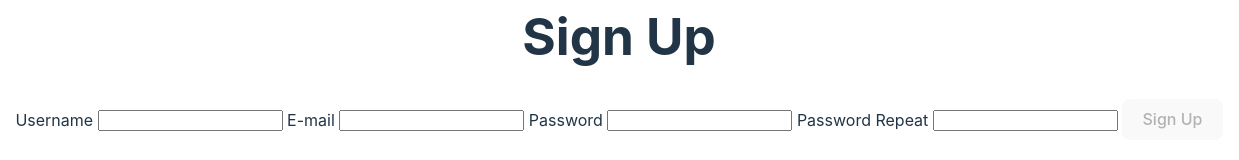
Scenario: Sign Up Page › Interactions › Enables the button when the password and password repeat have the same value
Type "P4ssword" into the password field labelled "Password". click: (700, 121)
box: [607, 110, 792, 132]
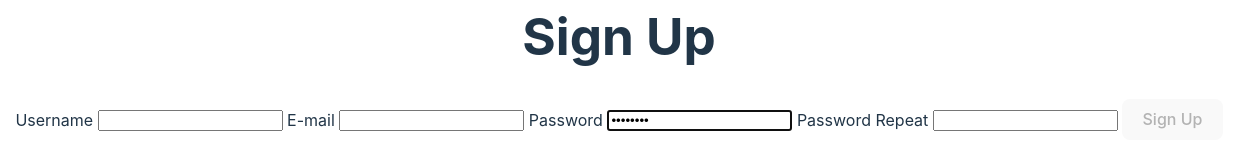
Type "P4ssword" into the password field labelled "Password Repeat". click: (1025, 121)
box: [933, 110, 1118, 132]
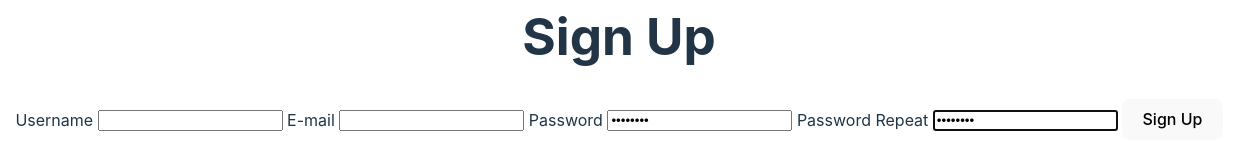
Check: the button "Sign Up" is enabled, box [1122, 99, 1223, 140]
